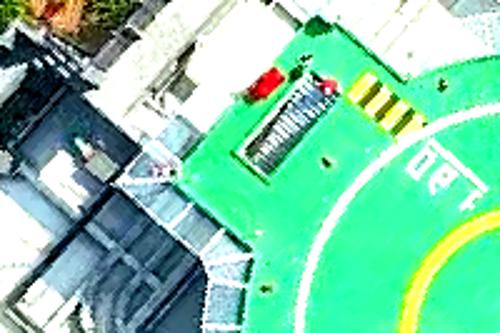Apron: (385, 193, 500, 333)
